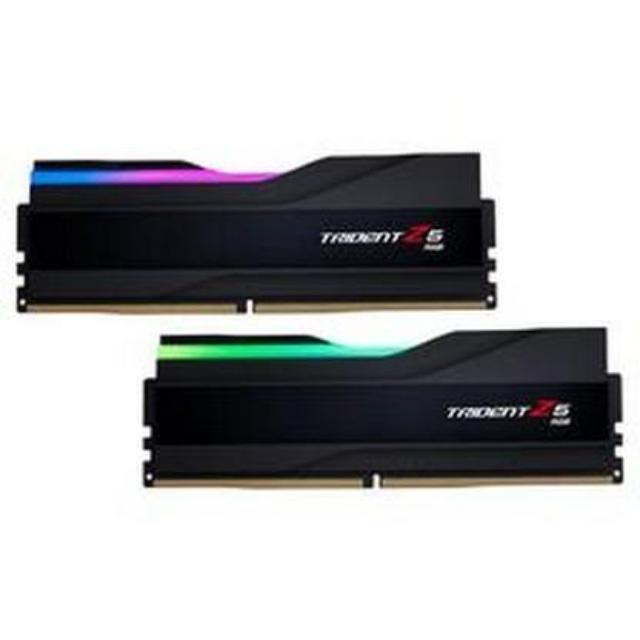RAM: (126, 320, 640, 514), (8, 146, 510, 320)
